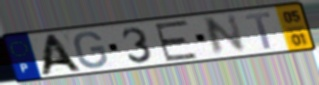3: (120, 25, 153, 64)
A: (38, 32, 86, 77)
E: (152, 18, 200, 63)
G: (72, 30, 110, 70)
N: (202, 12, 249, 59)
T: (242, 10, 274, 51)
